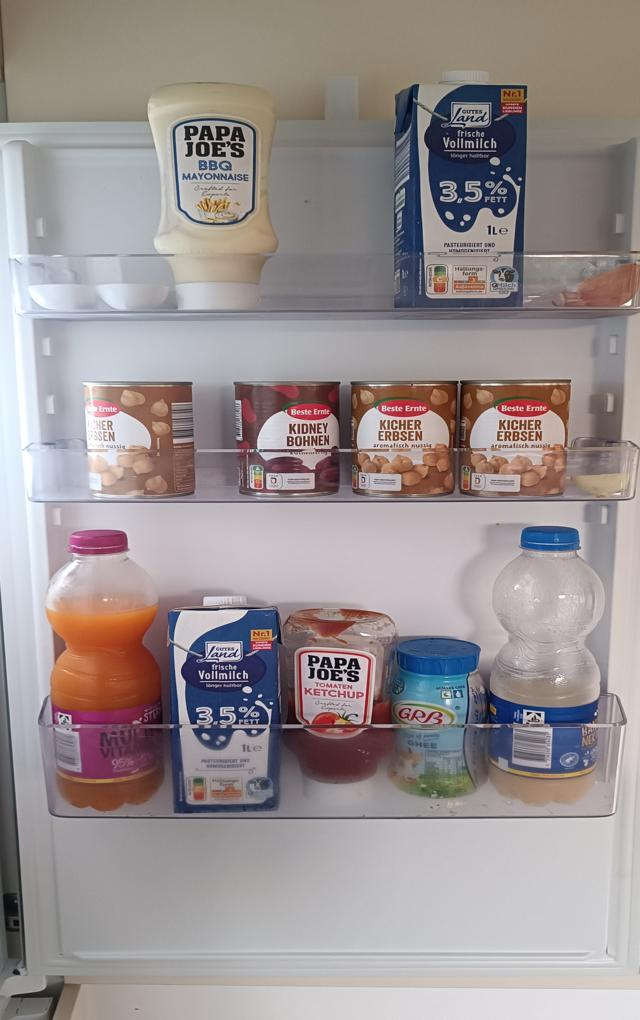bananajuice: (488, 524, 603, 800)
chickpeas: (82, 381, 196, 500), (463, 378, 569, 501), (349, 382, 453, 501)
ghee: (387, 633, 491, 800)
kidneybeans: (234, 383, 339, 499)
mayoniasie: (145, 82, 279, 311)
milk: (395, 70, 526, 310), (169, 593, 282, 815)
orangejuice: (44, 529, 166, 809)
tomatoketchup: (279, 603, 396, 803)
